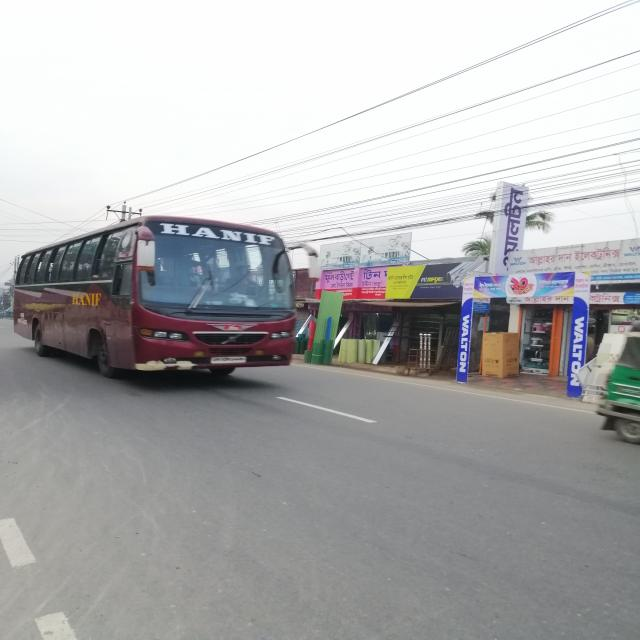Bus: (7, 213, 311, 398)
